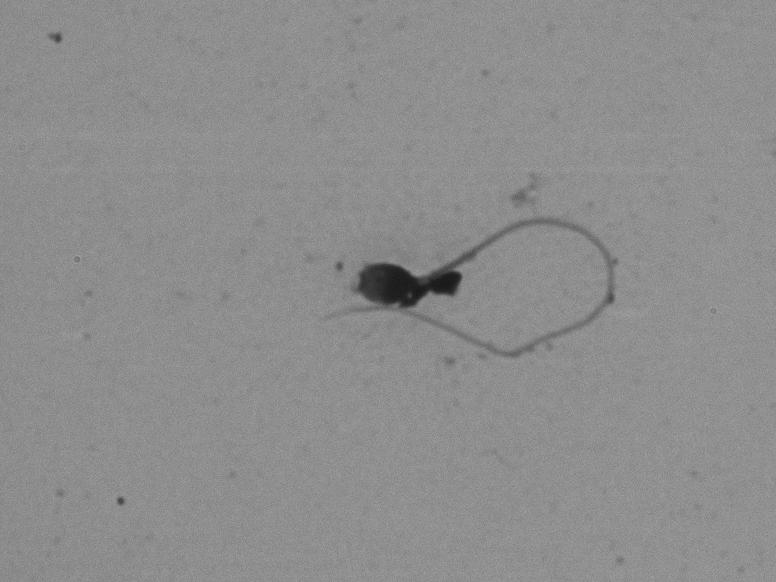Abnormal: (285, 194, 653, 400)
